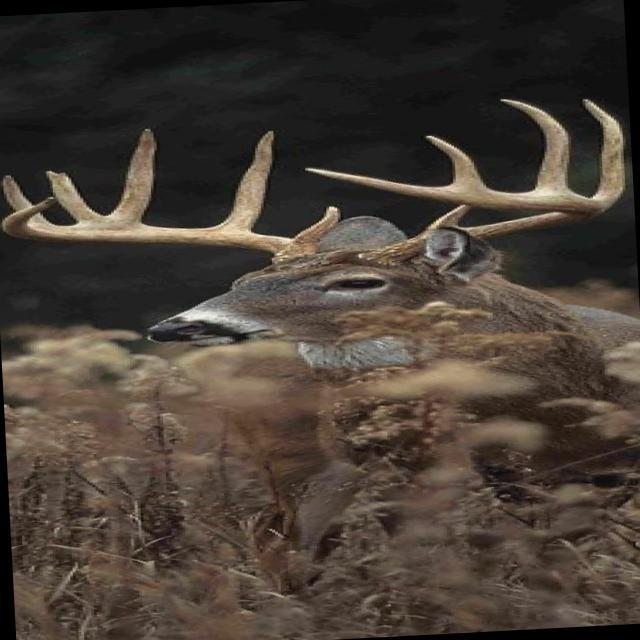L-G2: (580, 98, 628, 205)
L-G3: (493, 98, 578, 193)
L-G4: (423, 134, 494, 190)
R-F: (0, 198, 322, 264)
R-G1: (293, 205, 342, 241)
R-G2: (208, 129, 277, 232)
R-G3: (105, 127, 159, 225)
R-G4: (45, 170, 104, 224)
